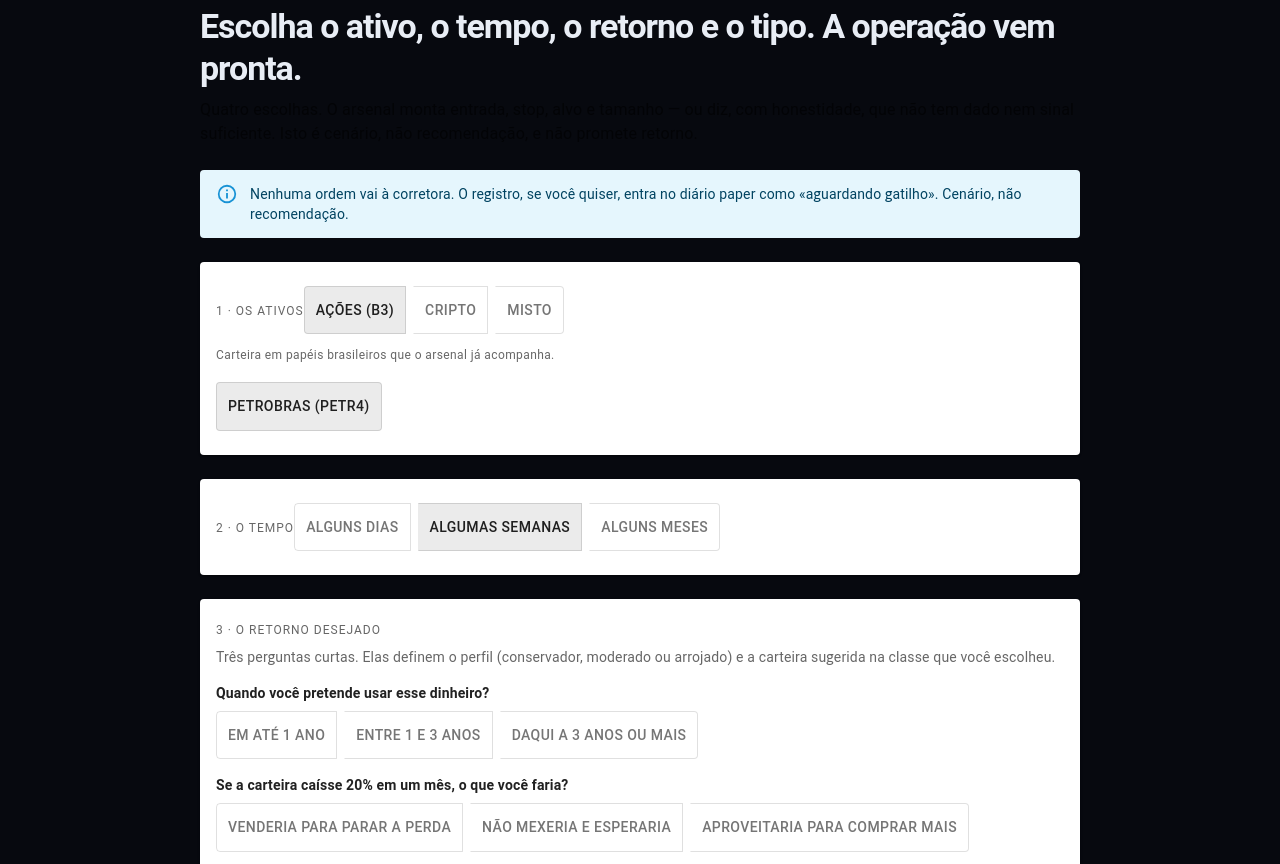
Test: ReadyOperationPage › assembles BTC when the client switches the asset
Click the button "Cripto": point(451, 310) x1=413 y1=286 x2=488 y2=334
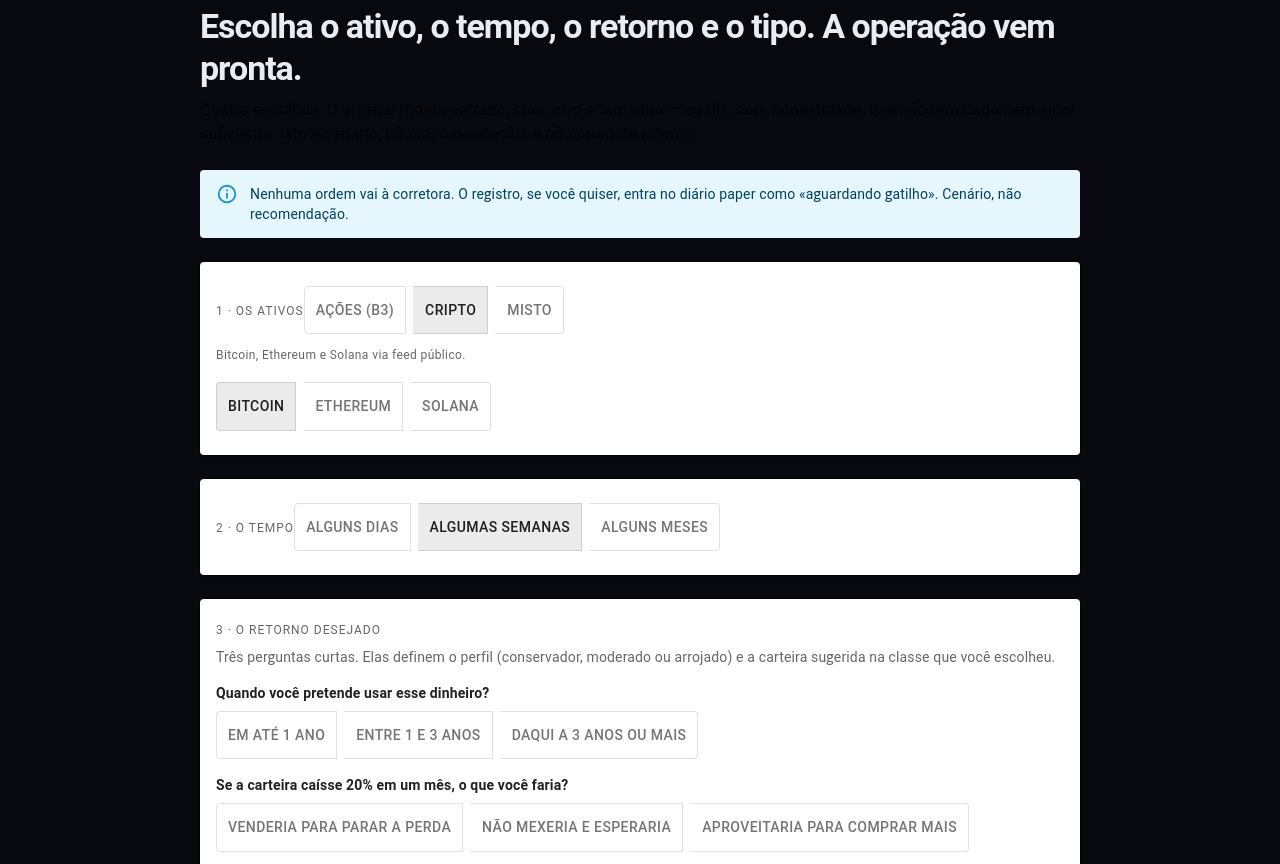
Click the button "Bitcoin": point(256, 406) x1=216 y1=382 x2=296 y2=430
(page scrolled)
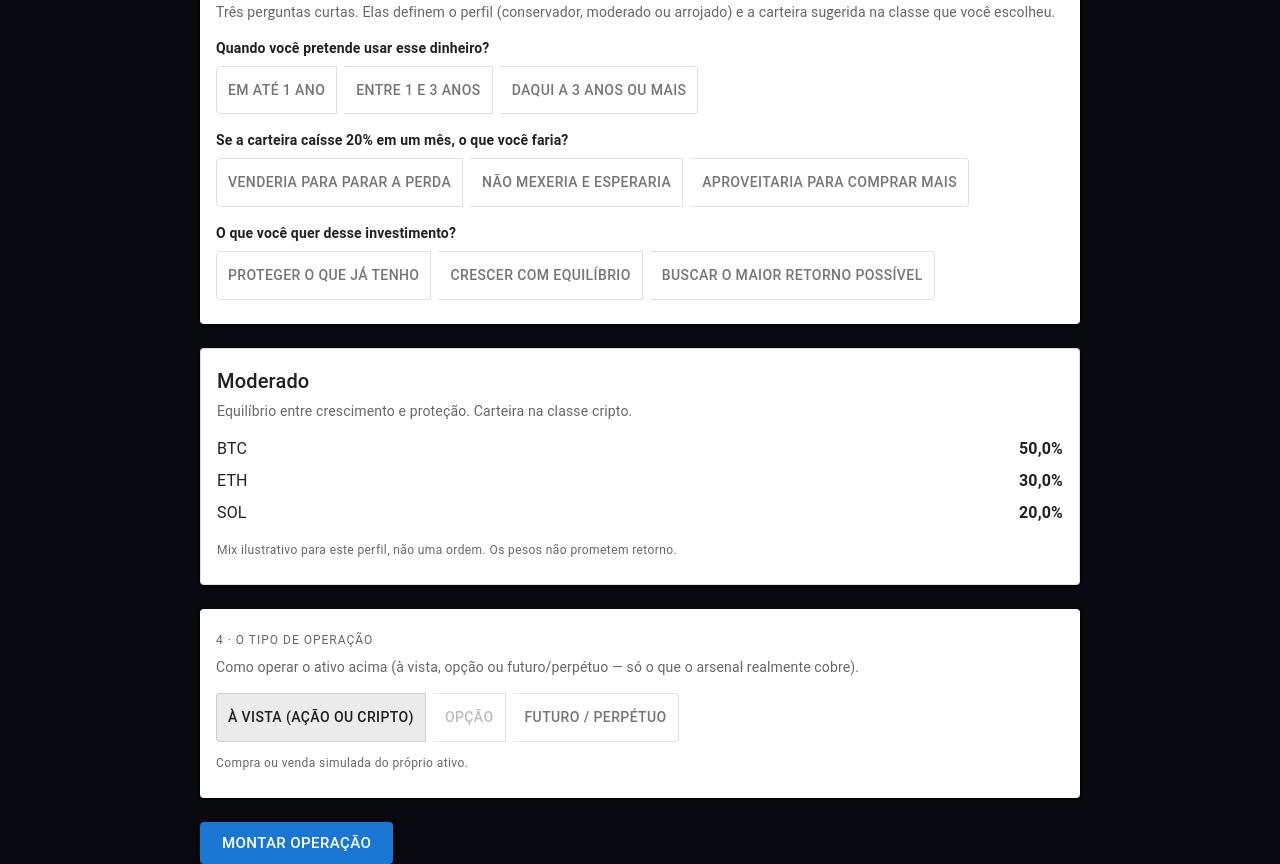
Click the button "Futuro / perpétuo": point(596, 718) x1=512 y1=693 x2=679 y2=742
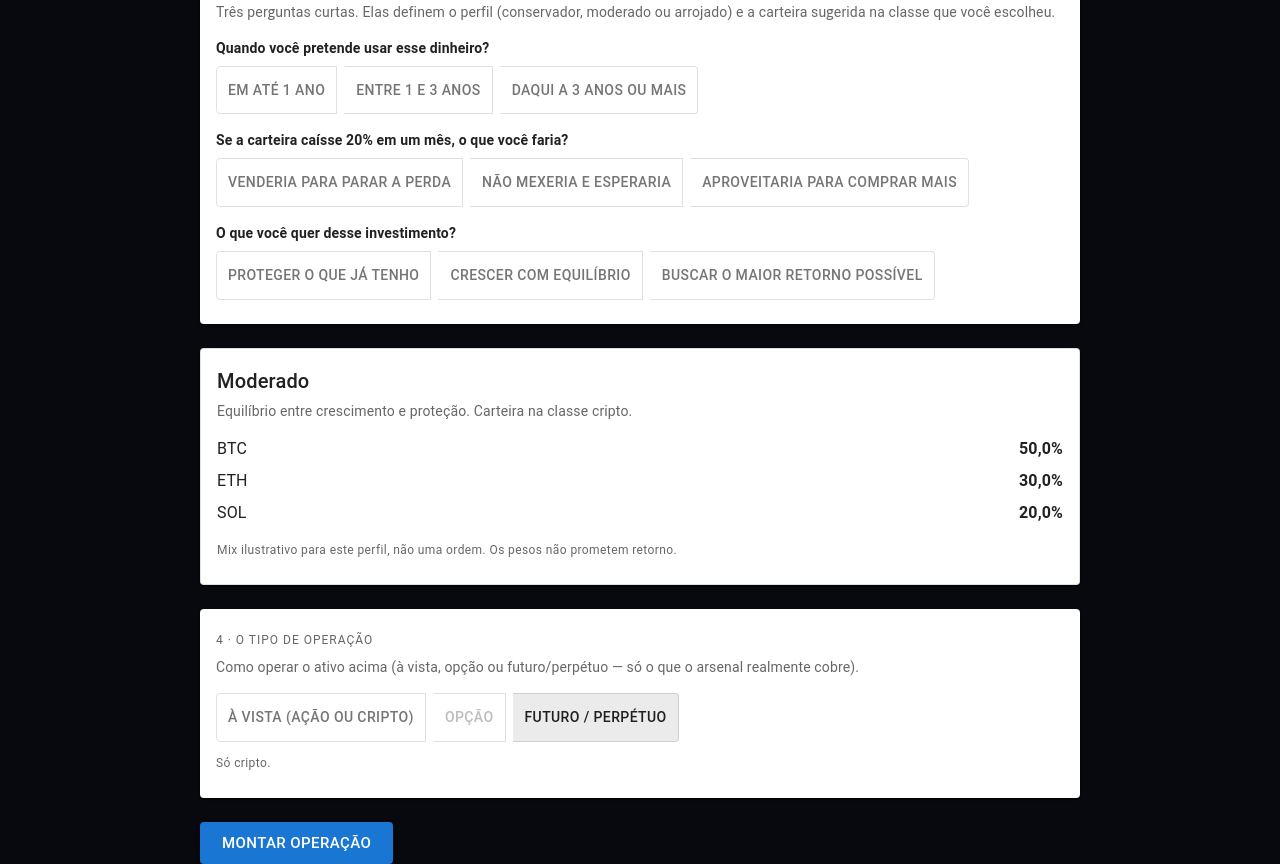
Click the button "Montar operação": point(297, 843) x1=200 y1=822 x2=393 y2=863
(page scrolled)
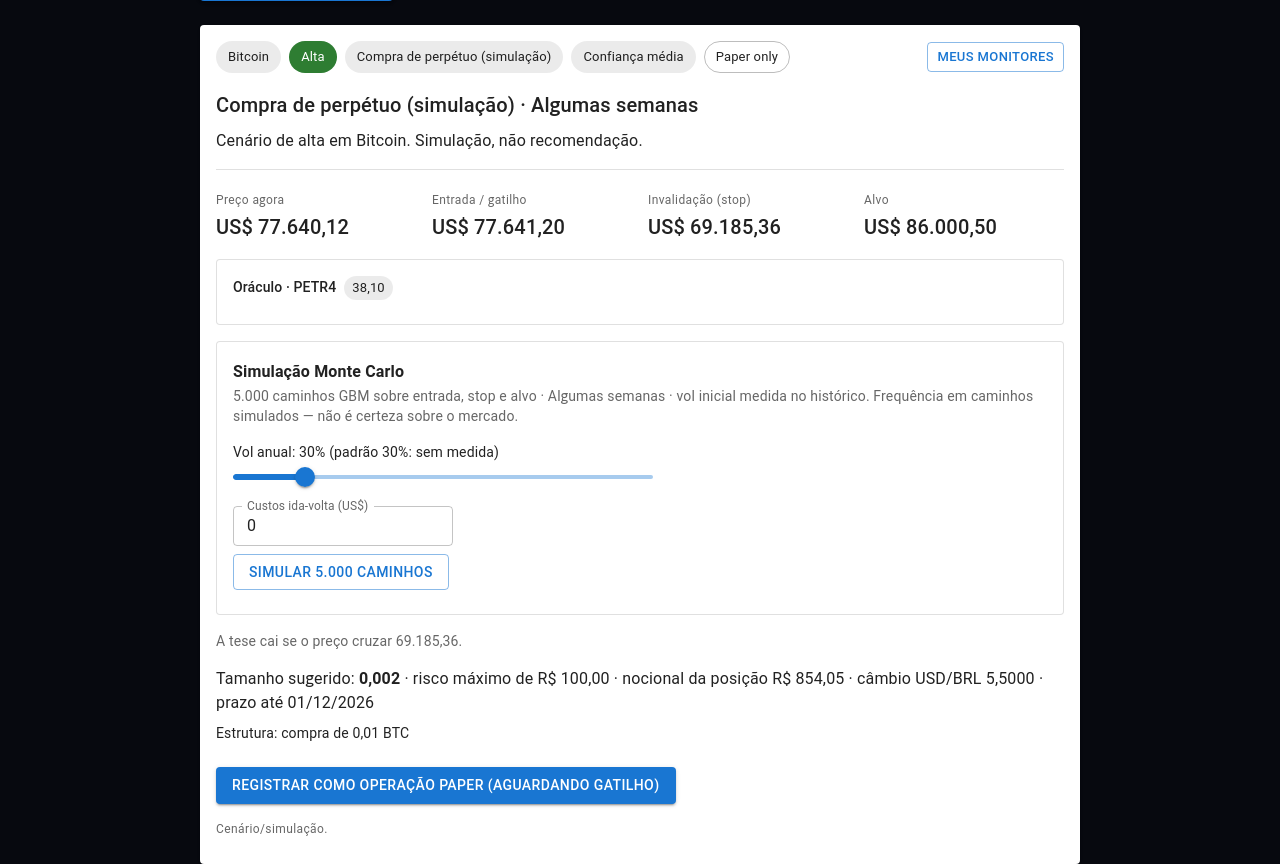
expect the text "Compra de perpétuo (simulação)" is shown: met, box x1=345 y1=47 x2=564 y2=67
expect the heading "US$ 77.640,12" is shown: met, box x1=216 y1=215 x2=349 y2=239
expect the heading "US$ 69.185,36" is shown: met, box x1=648 y1=215 x2=781 y2=239
